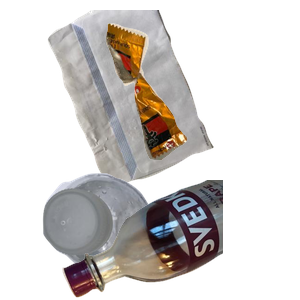glass: (60, 180, 300, 300)
paper: (45, 10, 251, 190)
plastic: (40, 170, 187, 300)
trash: (103, 21, 300, 174)
